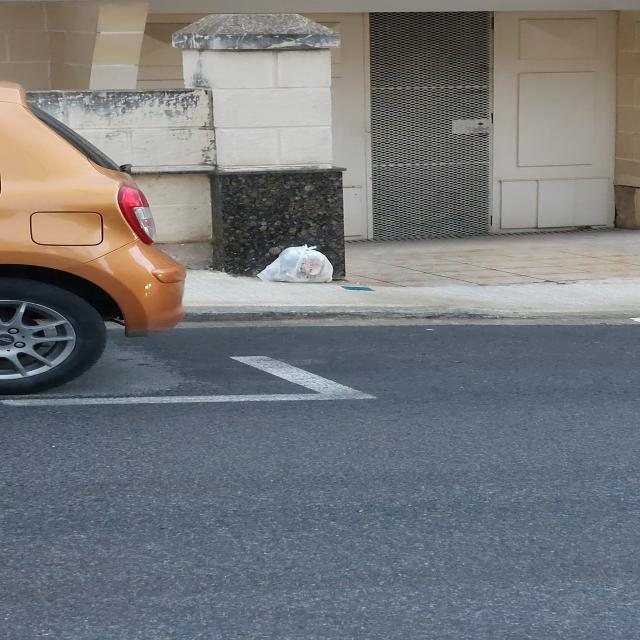Organic Waste -White Bag-: (252, 243, 343, 285)
